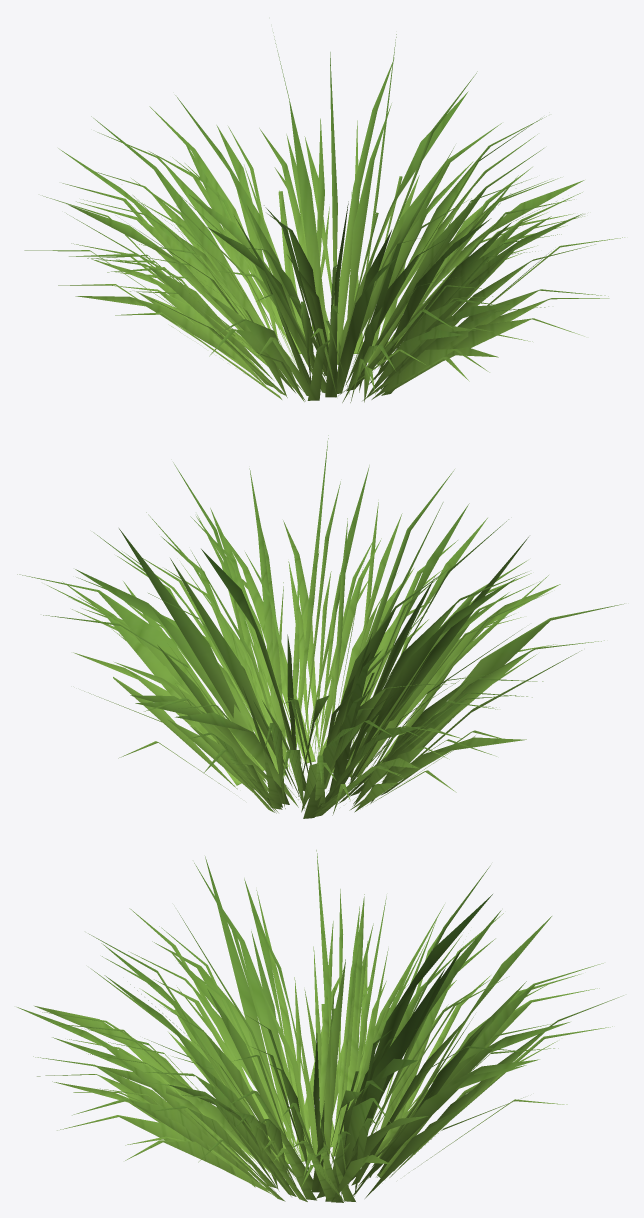
The model's file is grass-tuft.glb.
The picture shows the model from 3 angles, top to bottom: view 1: azimuth 30°, elevation 25°; view 2: azimuth 150°, elevation 25°; view 3: azimuth 270°, elevation 25°; orthographic projection.
Parts seen in each view (by area): view 1: Grass_Tuft; view 2: Grass_Tuft; view 3: Grass_Tuft.
Part boxes in pixels (bbox=[...]): Grass_Tuft: bbox=[24, 32, 624, 402]; Grass_Tuft: bbox=[17, 435, 624, 818]; Grass_Tuft: bbox=[17, 850, 623, 1202].
Size of the model in its own units: 0.5565 by 0.3064 by 0.5834.
1 material, 1 textured.
